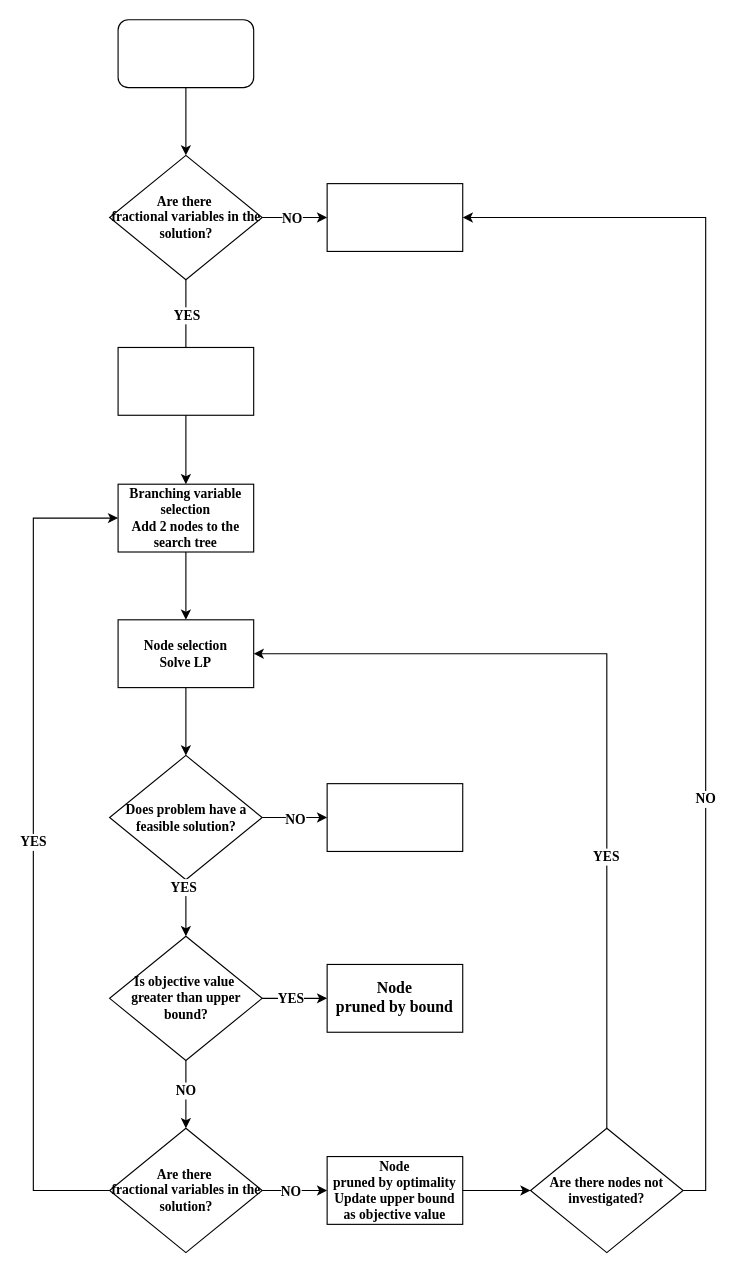
Image size: 735x1272. Some labels were removed from this diagram. Each missing label, with the centre of its shape:
Node pruned by infeasibility: (x=394, y=817)
Solve LP relaxation of MILP problem Set upper bound as inf: (x=185, y=53)
STOP Optimal solution found: (x=394, y=216)
Update lower bound as objective value: (x=185, y=380)
